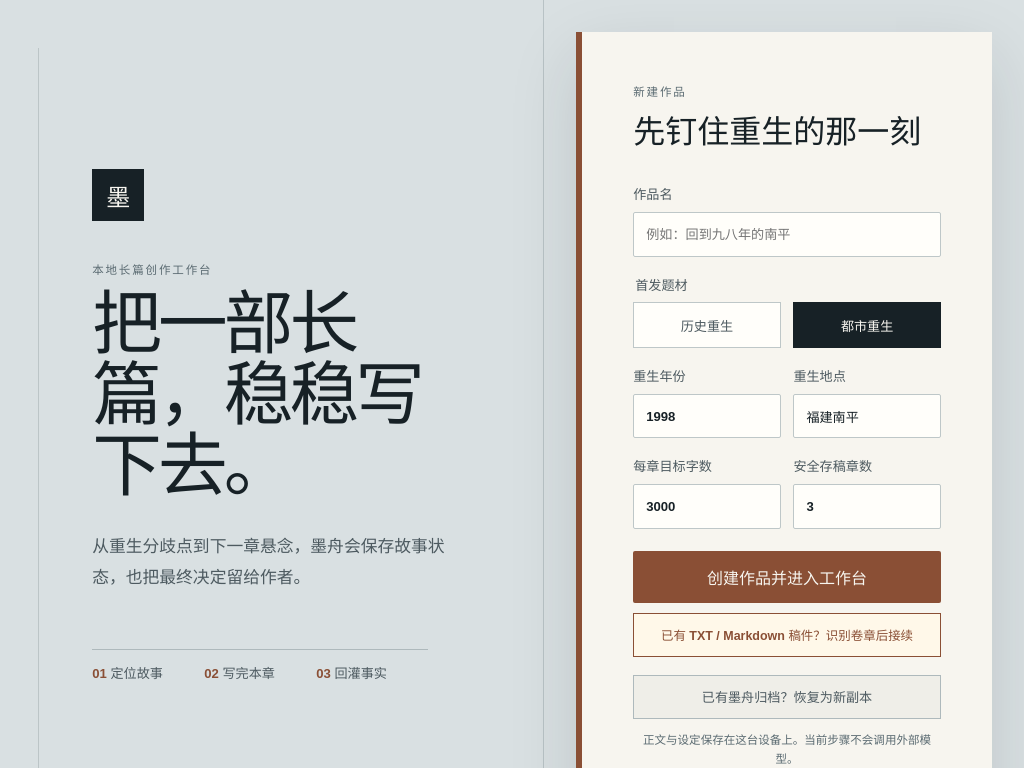
App › flushes the current chapter before switching to another chapter
The width and height of the screenshot is (1024, 768).
Step 1. Type "回到九八年的南平" into the field labelled "作品名" → (787, 235), box x1=633 y1=212 x2=941 y2=257
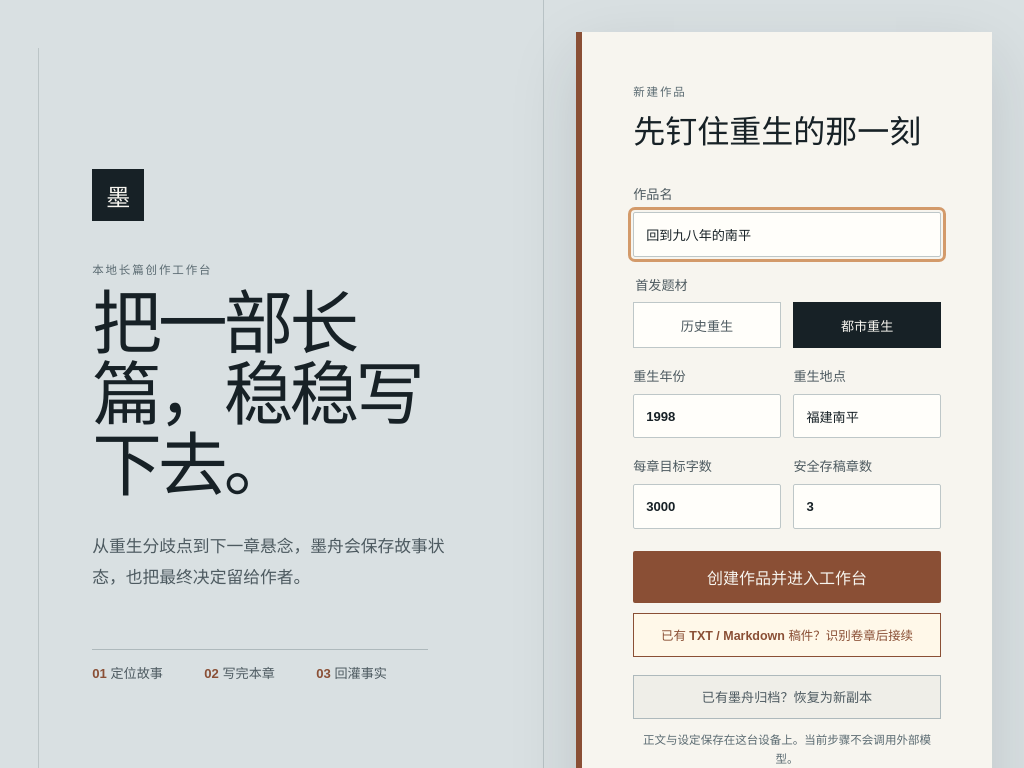
Step 2. Click the button "创建作品并进入工作台" → (787, 577), box x1=633 y1=551 x2=941 y2=603
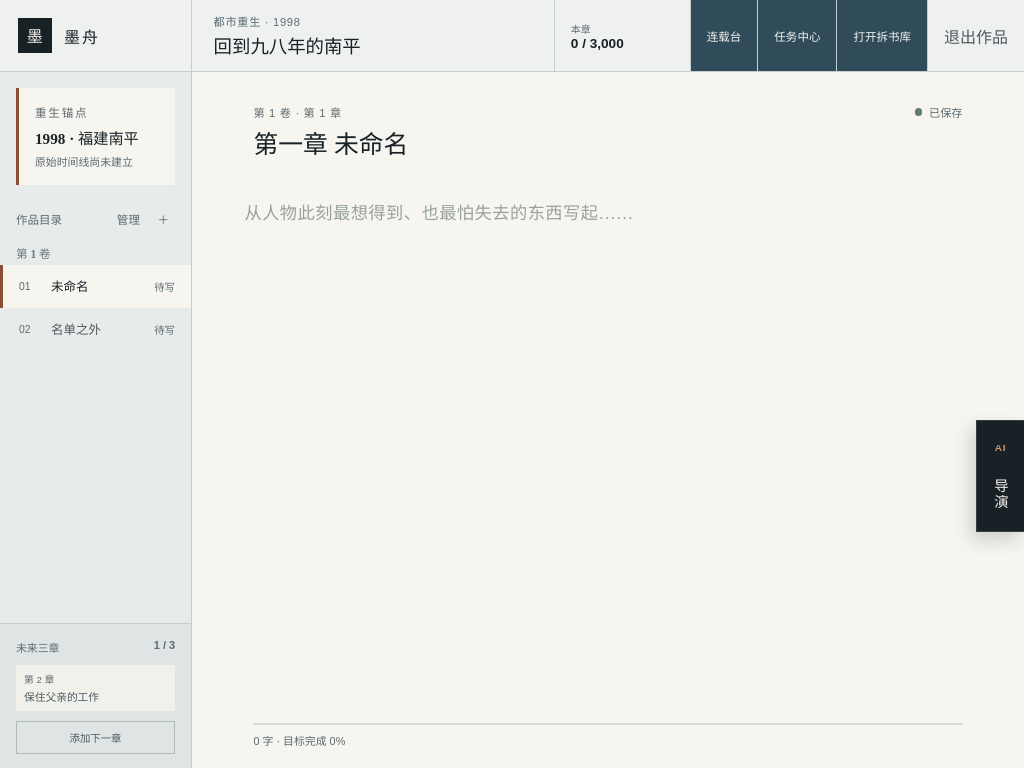
Step 3. Type "切章前必须留下的最后一句。" into the text box named "章节正文" → (608, 451), box x1=224 y1=180 x2=992 y2=723
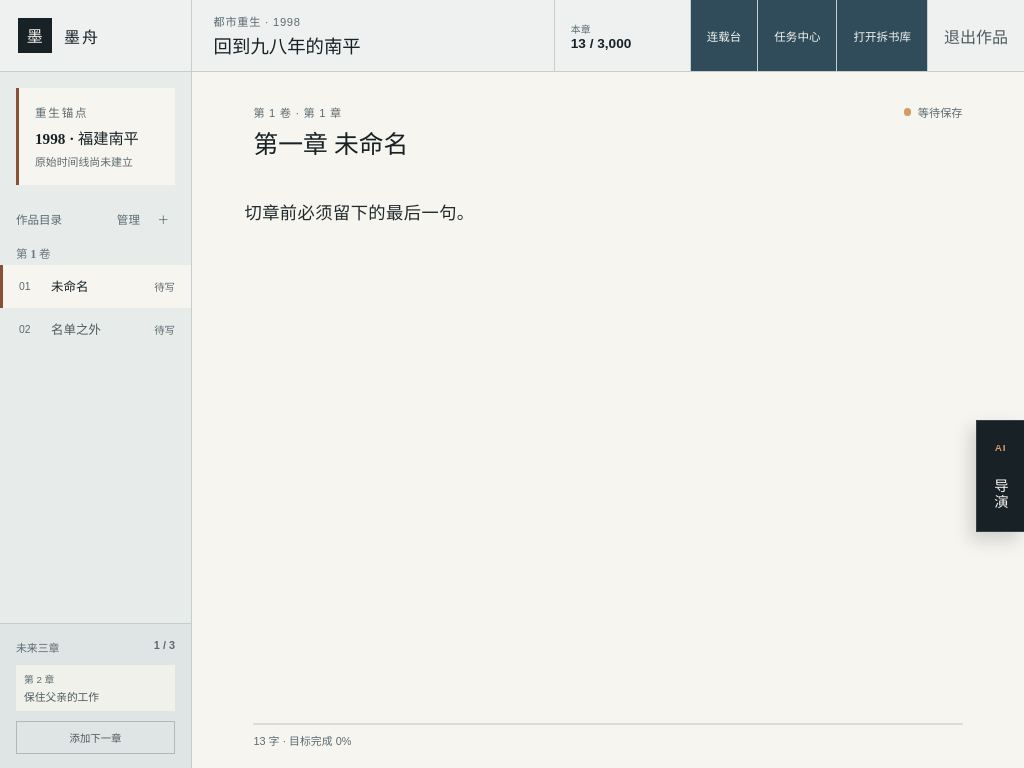
Step 4. Click the button with aria-label "打开第 2 章：第2章 名单之外" → (96, 329), box x1=0 y1=308 x2=191 y2=351
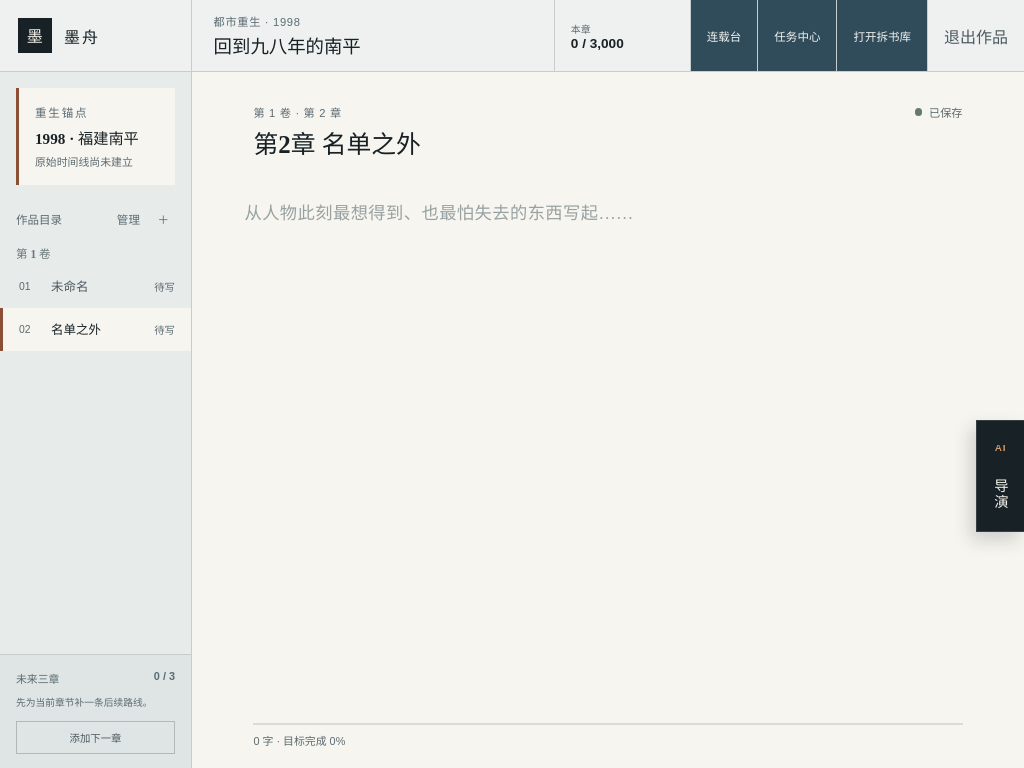
Expected: the heading "第2章 名单之外" is shown, x1=253 y1=124 x2=421 y2=160
